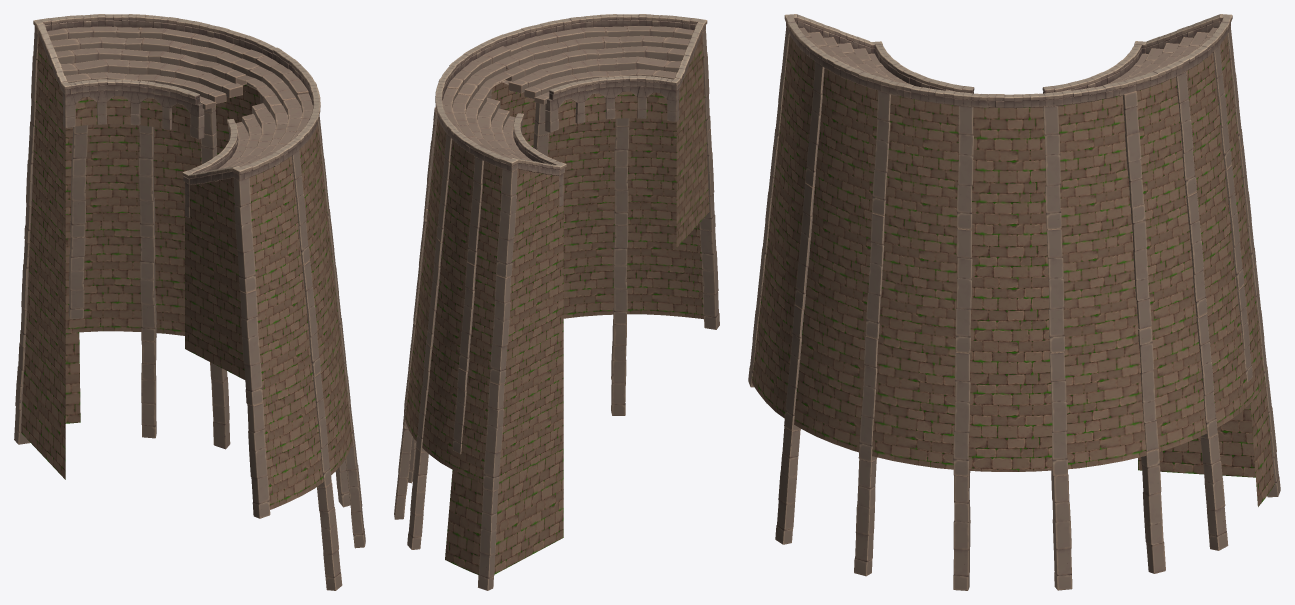
File: SM_Arena_Tribunes.fbx
3 views of the same model, side by side, from view 1: azimuth 30°, elevation 25°; view 2: azimuth 150°, elevation 25°; view 3: azimuth 270°, elevation 25° (orthographic). The views are drawn at different scales.
Visible parts, largest first — view 1: Tribunes_Walls, Tribunes_Seats, Tribunes_Edges, Tribunes_Pillar2, Tribunes_Pillar7, Tribunes_Pillar1, Tribunes_Pillar8, Tribunes_Pillar9, Tribunes_Pillar3, Tribunes_Pillar6, Tribunes_Pillar4; view 2: Tribunes_Walls, Tribunes_Seats, Tribunes_Edges, Tribunes_Pillar9, Tribunes_Pillar1, Tribunes_Pillar7, Tribunes_Pillar8, Tribunes_Pillar2, Tribunes_Pillar6, Tribunes_Pillar3; view 3: Tribunes_Walls, Tribunes_Edges, Tribunes_Pillar5, Tribunes_Pillar4, Tribunes_Pillar6, Tribunes_Pillar3, Tribunes_Pillar7, Tribunes_Pillar1, Tribunes_Seats, Tribunes_Pillar8, Tribunes_Pillar9, Tribunes_Pillar2.
Boxes of the visible parts, x1=… form: Tribunes_Walls: x1=21, y1=35, x2=353, y2=509; Tribunes_Seats: x1=47, y1=26, x2=312, y2=169; Tribunes_Edges: x1=33, y1=14, x2=320, y2=217; Tribunes_Pillar2: x1=233, y1=177, x2=270, y2=518; Tribunes_Pillar7: x1=138, y1=27, x2=156, y2=438; Tribunes_Pillar1: x1=291, y1=150, x2=342, y2=590; Tribunes_Pillar8: x1=68, y1=125, x2=88, y2=319; Tribunes_Pillar9: x1=14, y1=31, x2=38, y2=444; Tribunes_Pillar3: x1=318, y1=117, x2=365, y2=548; Tribunes_Pillar6: x1=201, y1=107, x2=230, y2=449; Tribunes_Pillar4: x1=335, y1=459, x2=350, y2=507; Tribunes_Walls: x1=404, y1=34, x2=709, y2=574; Tribunes_Seats: x1=442, y1=26, x2=693, y2=160; Tribunes_Edges: x1=435, y1=14, x2=707, y2=206; Tribunes_Pillar9: x1=478, y1=168, x2=517, y2=590; Tribunes_Pillar1: x1=611, y1=26, x2=629, y2=415; Tribunes_Pillar7: x1=407, y1=134, x2=452, y2=549; Tribunes_Pillar8: x1=452, y1=156, x2=483, y2=454; Tribunes_Pillar2: x1=692, y1=30, x2=719, y2=329; Tribunes_Pillar6: x1=394, y1=107, x2=437, y2=519; Tribunes_Pillar3: x1=533, y1=102, x2=549, y2=156; Tribunes_Walls: x1=752, y1=35, x2=1274, y2=506; Tribunes_Edges: x1=784, y1=14, x2=1232, y2=108; Tribunes_Pillar5: x1=1043, y1=106, x2=1072, y2=590; Tribunes_Pillar4: x1=953, y1=106, x2=973, y2=590; Tribunes_Pillar6: x1=1123, y1=91, x2=1165, y2=573; Tribunes_Pillar3: x1=854, y1=90, x2=890, y2=576; Tribunes_Pillar7: x1=1176, y1=71, x2=1228, y2=550; Tribunes_Pillar1: x1=775, y1=62, x2=824, y2=544; Tribunes_Seats: x1=799, y1=27, x2=1217, y2=84; Tribunes_Pillar8: x1=1213, y1=46, x2=1252, y2=382; Tribunes_Pillar9: x1=1227, y1=27, x2=1280, y2=497; Tribunes_Pillar2: x1=748, y1=27, x2=789, y2=387.
Bounding box in the file's own units: 1.96 × 3.99 × 4.03.
